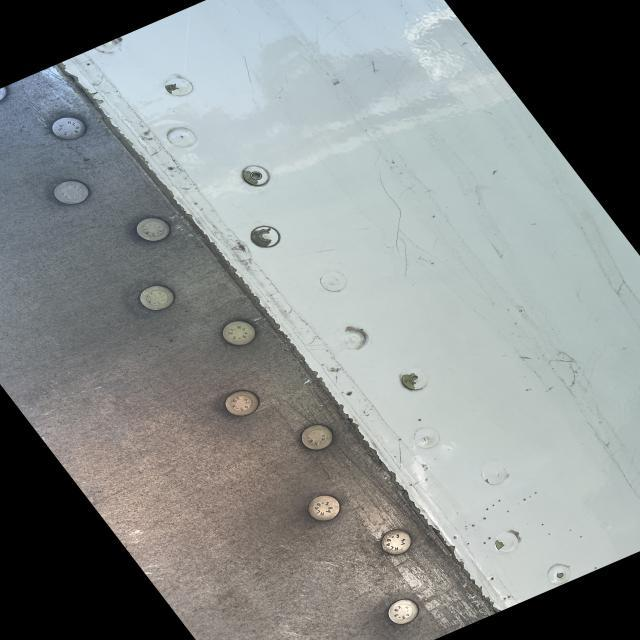crack: (382, 186, 439, 286)
